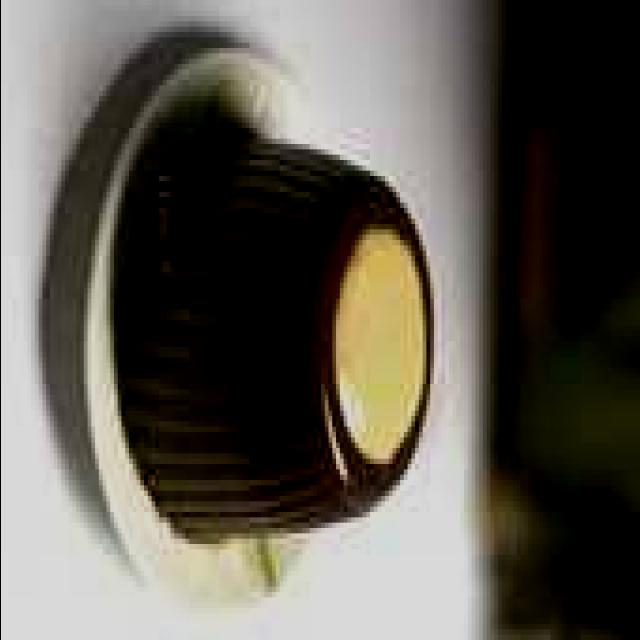puding: (112, 106, 446, 544)
